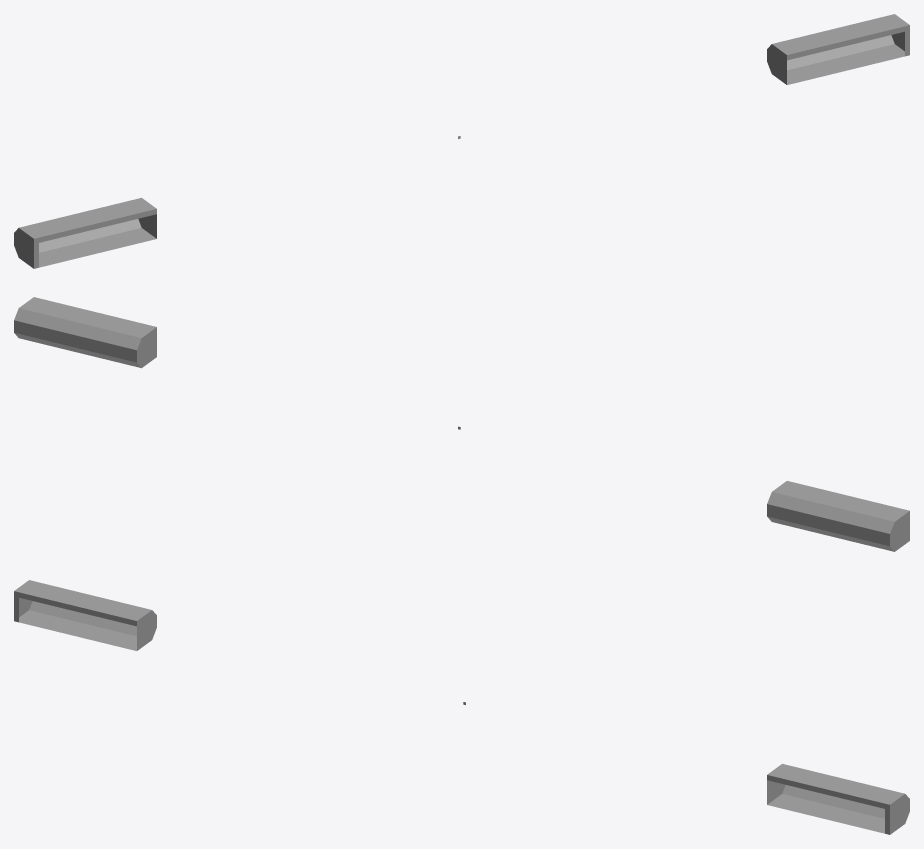
File: LidMeshLaptopLid_30_1_GeomSubset_1.obj
3 views of the same model, one above another, from view 1: azimuth 30°, elevation 25°; view 2: azimuth 150°, elevation 25°; view 3: azimuth 330°, elevation 25° (orthographic).
Visible parts, largest first — view 1: LidMeshLaptopLid_30_1_GeomSubset_1; view 2: LidMeshLaptopLid_30_1_GeomSubset_1; view 3: LidMeshLaptopLid_30_1_GeomSubset_1.
Boxes of the visible parts, x1=… form: LidMeshLaptopLid_30_1_GeomSubset_1: x1=14, y1=14, x2=909, y2=268; LidMeshLaptopLid_30_1_GeomSubset_1: x1=14, y1=297, x2=909, y2=551; LidMeshLaptopLid_30_1_GeomSubset_1: x1=14, y1=580, x2=909, y2=834.
Size of the model in its own units: 0.4299 by 0.0141 by 0.017.
